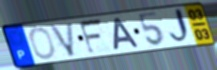5: (135, 10, 167, 48)
A: (113, 17, 141, 52)
F: (78, 17, 105, 57)
J: (168, 7, 193, 47)
O: (28, 26, 57, 60)
V: (49, 22, 77, 59)
